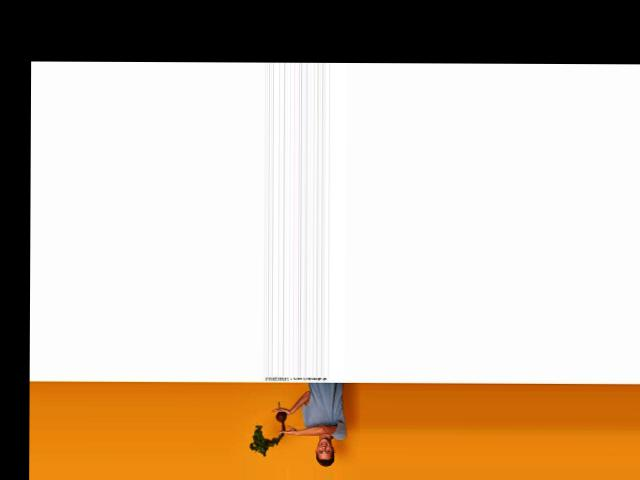beet: (249, 401, 286, 456)
